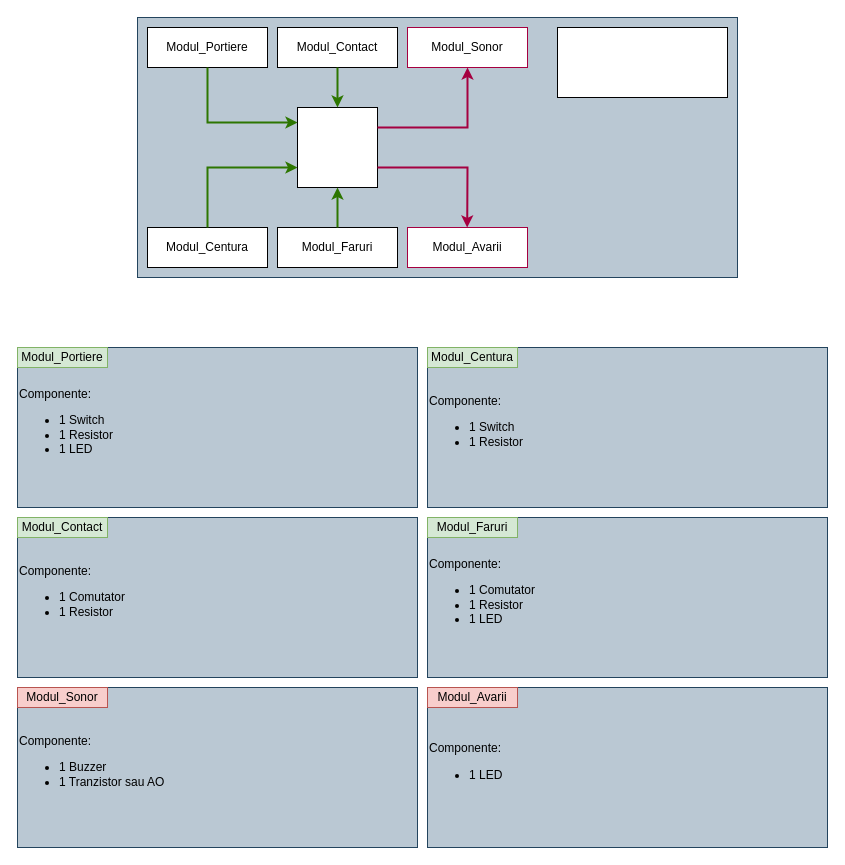
Some shapes in this 845 by 865 pixel diagram are drawn without their labels. The shapes that lost their labels are listed below. From the top down, each one's centre as x and y in pixels, then its label:
pixel 642 62: Verde : Intrarile microcontrolerului Rosu : Iesirile microcontrolerului
pixel 337 147: uC
